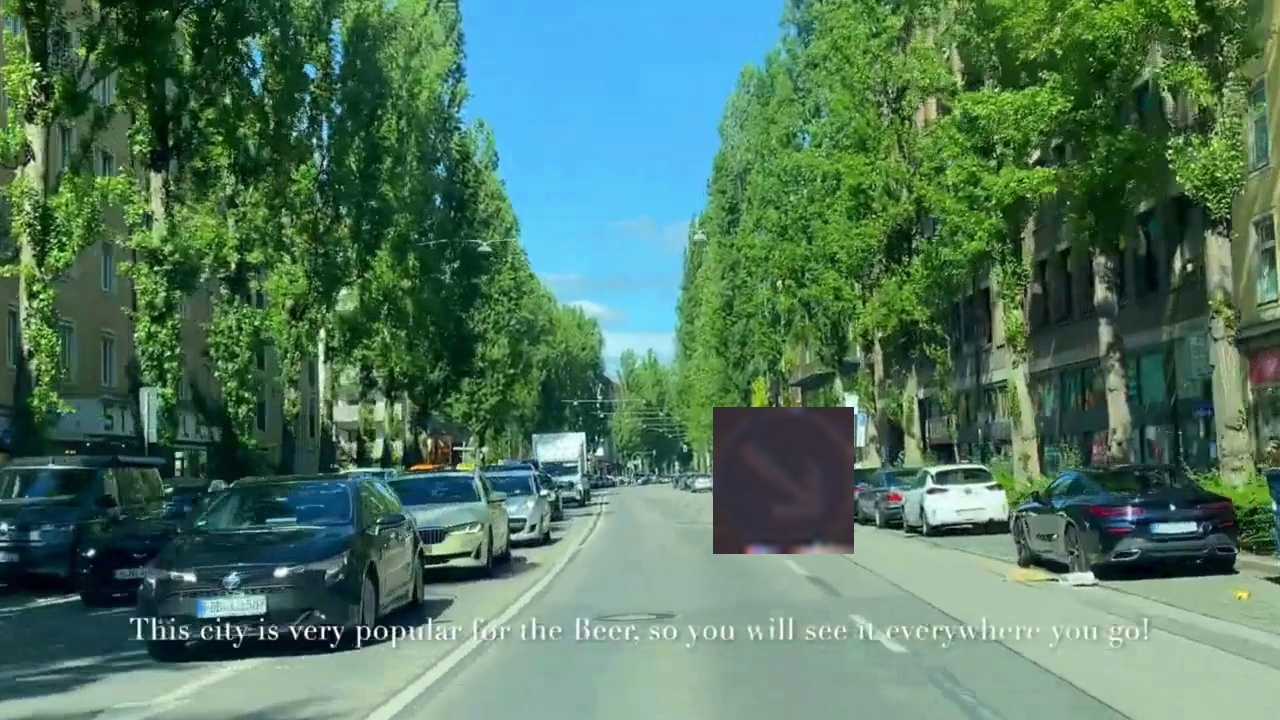Keep right: (713, 407, 854, 554)
